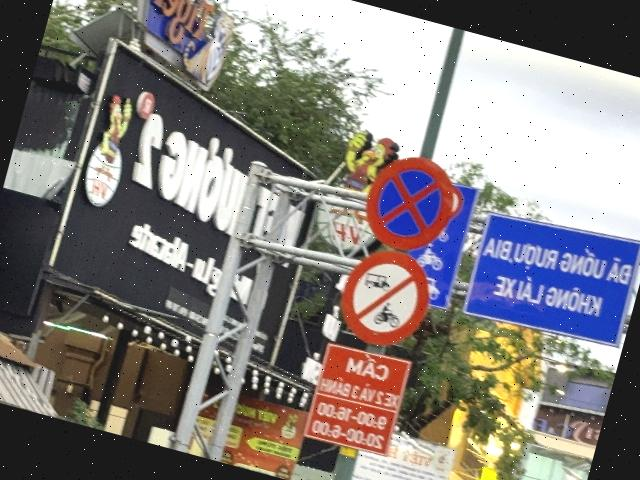cam-dung-va-do-xe: (356, 142, 464, 262)
cam-xe-2-banh-3-banh: (332, 238, 441, 356)
